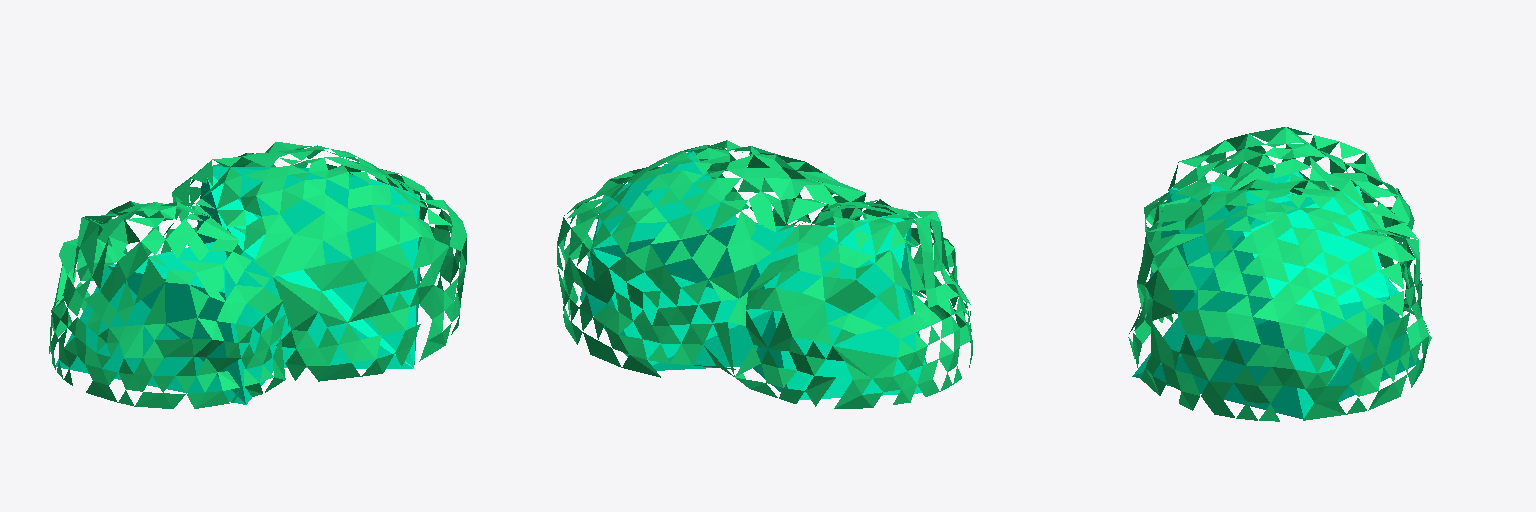
The model's file is WrightBuckwheat_LOD1.obj.
3 views of the same model, side by side, from view 1: azimuth 30°, elevation 25°; view 2: azimuth 150°, elevation 25°; view 3: azimuth 270°, elevation 25° (orthographic).
Parts seen in each view (by area): view 1: WrightBuckwheat_LOD1; view 2: WrightBuckwheat_LOD1; view 3: WrightBuckwheat_LOD1.
Boxes of the visible parts, box(x1,y1,x2,y2) form: WrightBuckwheat_LOD1: box(49, 142, 466, 408); WrightBuckwheat_LOD1: box(557, 140, 972, 408); WrightBuckwheat_LOD1: box(1128, 127, 1431, 421).
Bounding box in the file's own units: 102 × 41.64 × 70.92.